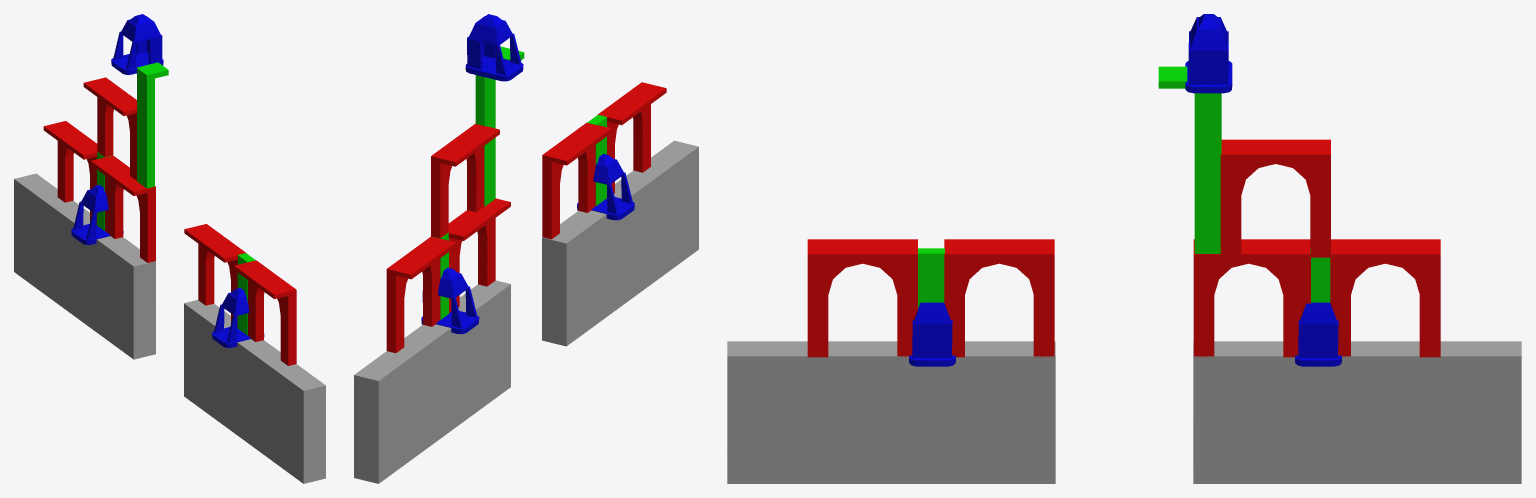
The model's file is zip_line.fbx.
3 renders of one model, left to right at view 1: azimuth 30°, elevation 25°; view 2: azimuth 150°, elevation 25°; view 3: azimuth 270°, elevation 25°, orthographic. The views are drawn at different scales.
Parts seen in each view (by area): view 1: polySurface2137, polySurface2138, polySurface2134, polySurface2135, polySurface2136; view 2: polySurface2137, polySurface2138, polySurface2134, polySurface2135, polySurface2136; view 3: polySurface2137, polySurface2138, polySurface2134, polySurface2136, polySurface2135.
Part boxes in pixels (x1,y1,x2,y2): polySurface2137: (14,62,168,359); polySurface2138: (184,224,325,483); polySurface2134: (111,14,163,74); polySurface2135: (71,185,123,244); polySurface2136: (212,288,264,347); polySurface2137: (354,46,524,483); polySurface2138: (542,82,698,346); polySurface2134: (465,14,523,81); polySurface2135: (421,267,479,334); polySurface2136: (577,154,634,220); polySurface2137: (1158,66,1521,483); polySurface2138: (727,239,1055,483); polySurface2134: (1185,14,1232,93); polySurface2136: (909,302,955,366); polySurface2135: (1295,302,1341,366).
Size of the model in its own units: 68.61 by 546 by 852.
